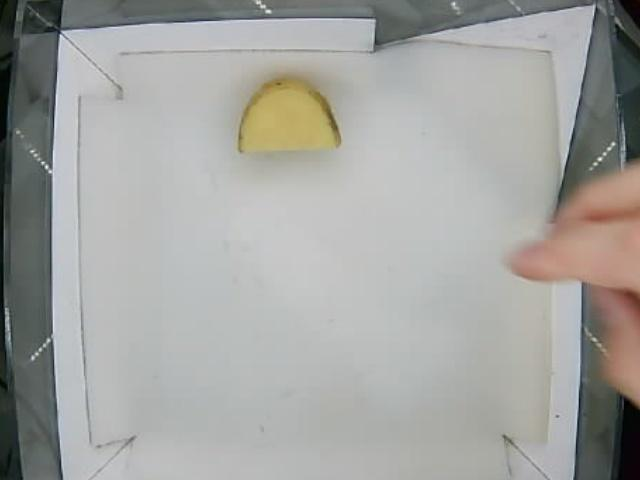Potato: (237, 80, 342, 153)
